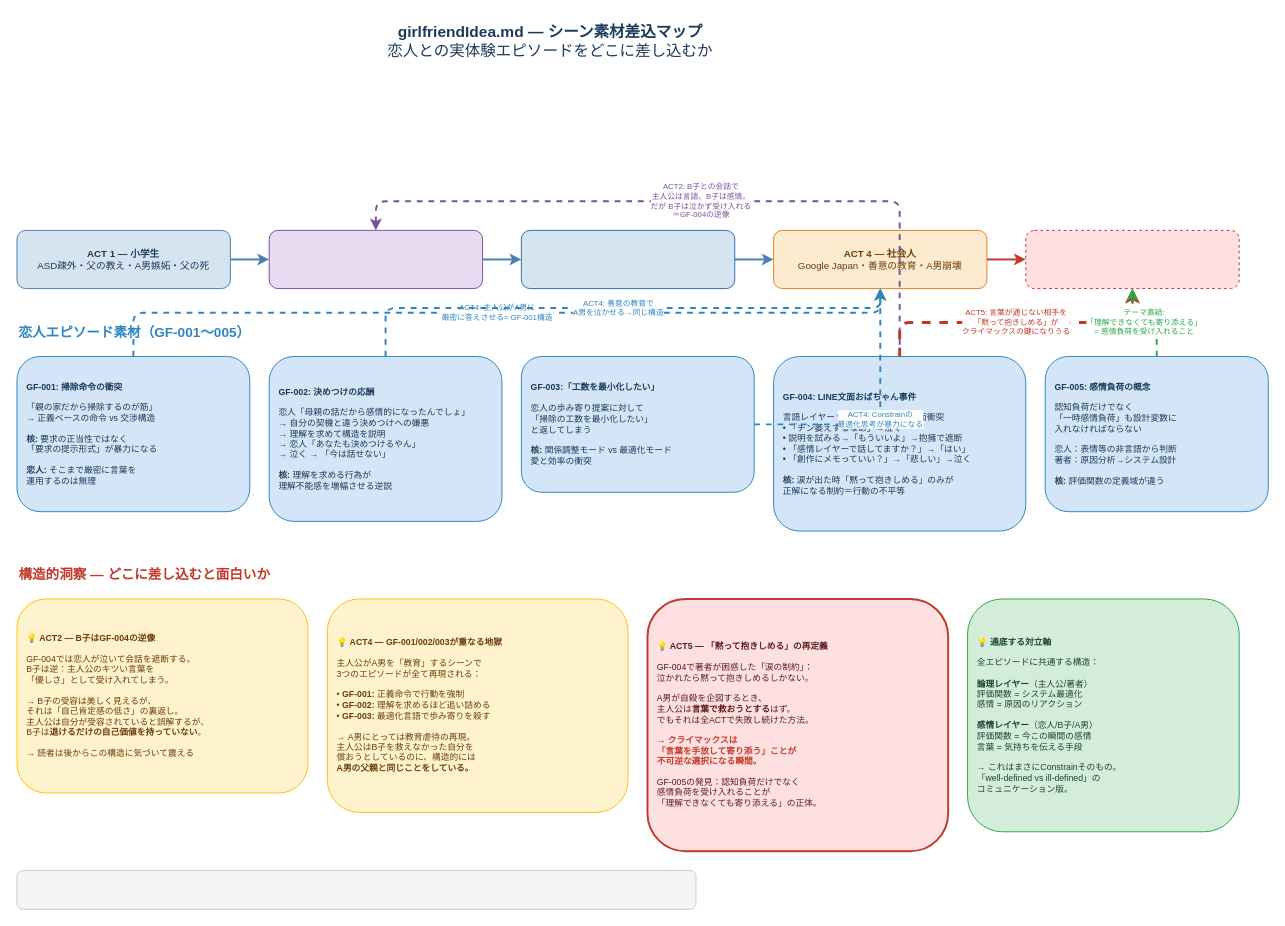
This 1285x926 diagram has some shape labels left out. The centre of each missing label's shape, as x and y in pixels:
"ACT 2 — 中学 B子と出会い・いじめ加速・B子の幸福死" belongs at (x=375, y=259).
"ACT 3 — 灘～東大 エリート適応・厳密さへの確信" belongs at (x=627, y=259).
"ACT 5 — クライマックス A男自殺企図・主人公の選択" belongs at (x=1132, y=259).
"凡例 🔵 青破線=素材→ACT差込先 🟣 紫=B子接続 🔴 赤太線=クライマックス接続 🟢 緑=テーマ接続 🟡 黄=構造的洞察" belongs at (x=356, y=889).
